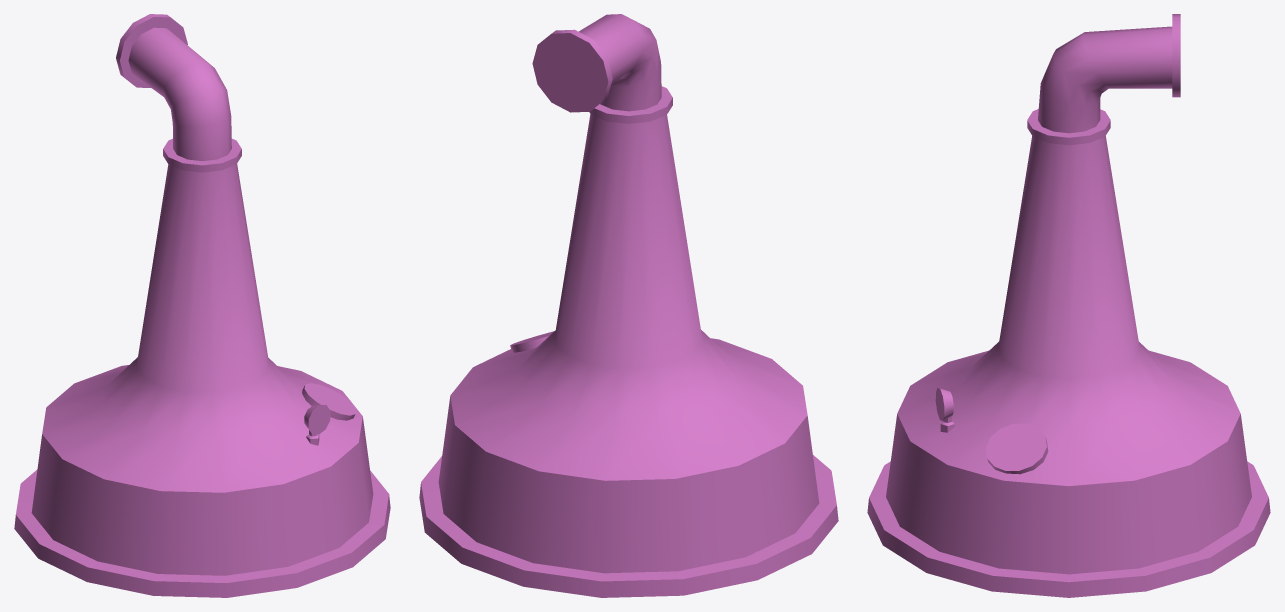
File: DistilleryDome.fbx
The picture shows the model from 3 angles, left to right: view 1: azimuth 30°, elevation 25°; view 2: azimuth 150°, elevation 25°; view 3: azimuth 270°, elevation 25°; orthographic projection. The views are drawn at different scales.
Parts seen in each view (by area): view 1: DistilleryDome; view 2: DistilleryDome; view 3: DistilleryDome.
Part boxes in pixels (x1,y1,x2,y2): DistilleryDome: (14,14,390,597); DistilleryDome: (419,14,838,597); DistilleryDome: (867,14,1270,597).
Bounding box in the file's own units: 361 × 490 × 361.
